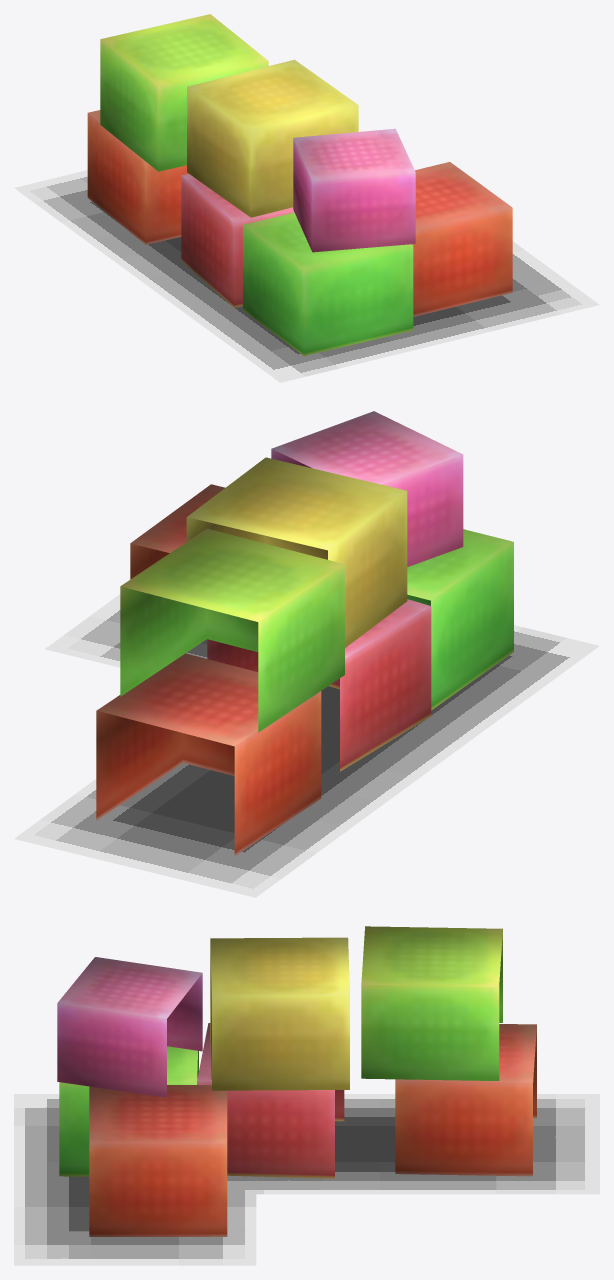
The model's file is int_fence_16.dae.
3 views of the same model, one above another, from view 1: azimuth 30°, elevation 25°; view 2: azimuth 150°, elevation 25°; view 3: azimuth 270°, elevation 25° (orthographic). The views are drawn at different scales.
Visible parts, largest first — view 1: int_fence_16; view 2: int_fence_16; view 3: int_fence_16.
Boxes of the visible parts, box(x1,y1,x2,y2) form: int_fence_16: box(14, 14, 599, 382); int_fence_16: box(14, 411, 599, 897); int_fence_16: box(14, 926, 599, 1265).
Size of the model in its own units: 41.23 by 21.09 by 59.5.
2 materials, 2 textured.
